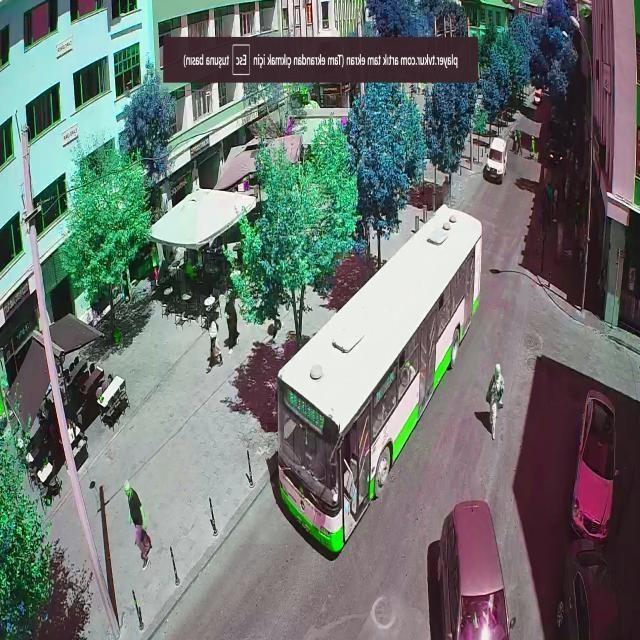Bus: (274, 203, 483, 562)
Car: (566, 387, 620, 540), (552, 547, 628, 640)
Van: (440, 496, 515, 640), (483, 138, 508, 183)
